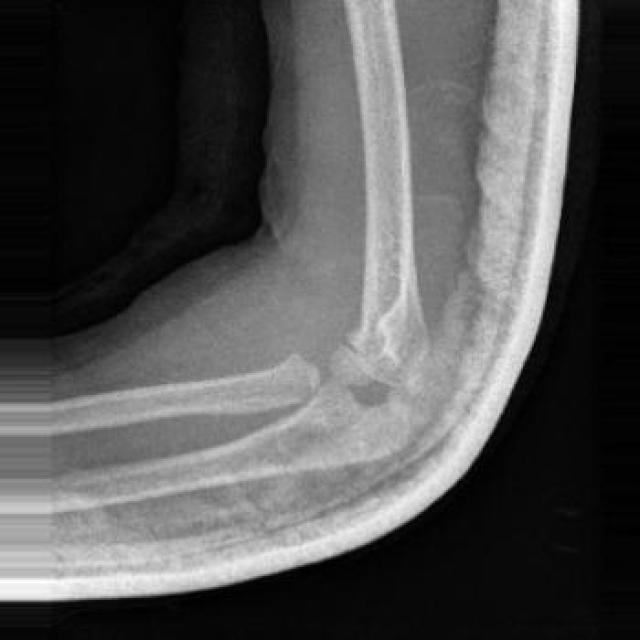Fracture: (284, 325, 409, 419)
